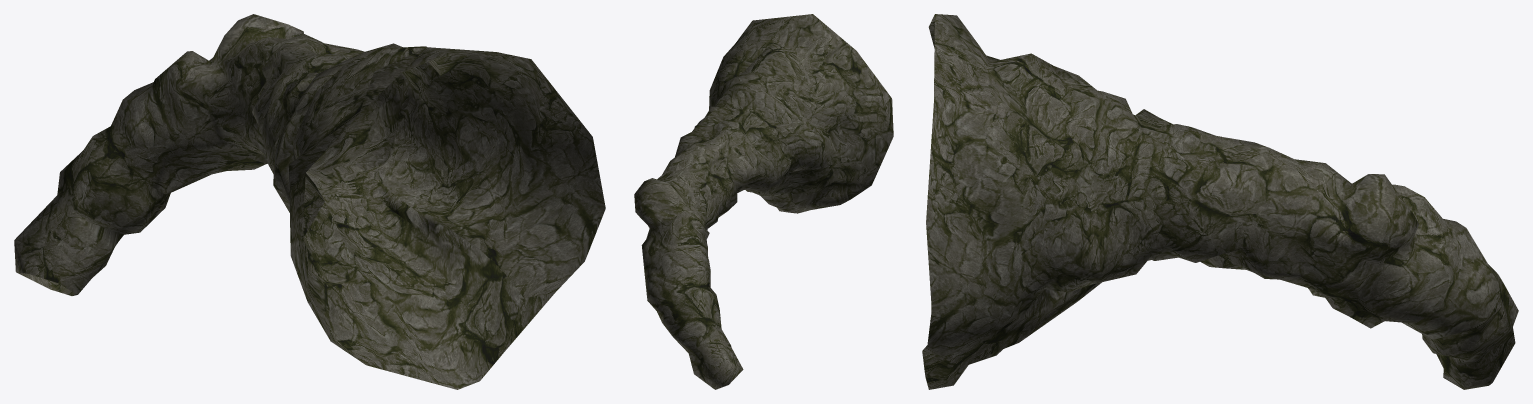
Rendered from TI_Cliff_01_o_LOD_01.fbx.
3 renders of one model, left to right at view 1: azimuth 30°, elevation 25°; view 2: azimuth 150°, elevation 25°; view 3: azimuth 270°, elevation 25°, orthographic. The views are drawn at different scales.
Visible parts, largest first — view 1: TI_Cliff_01_o_LOD_01; view 2: TI_Cliff_01_o_LOD_01; view 3: TI_Cliff_01_o_LOD_01.
Part boxes in pixels (x1=…): TI_Cliff_01_o_LOD_01: x1=14, y1=14, x2=605, y2=389; TI_Cliff_01_o_LOD_01: x1=634, y1=14, x2=893, y2=389; TI_Cliff_01_o_LOD_01: x1=922, y1=14, x2=1518, y2=389.
Bounding box in the file's own units: 8.72 × 10.91 × 13.91.
